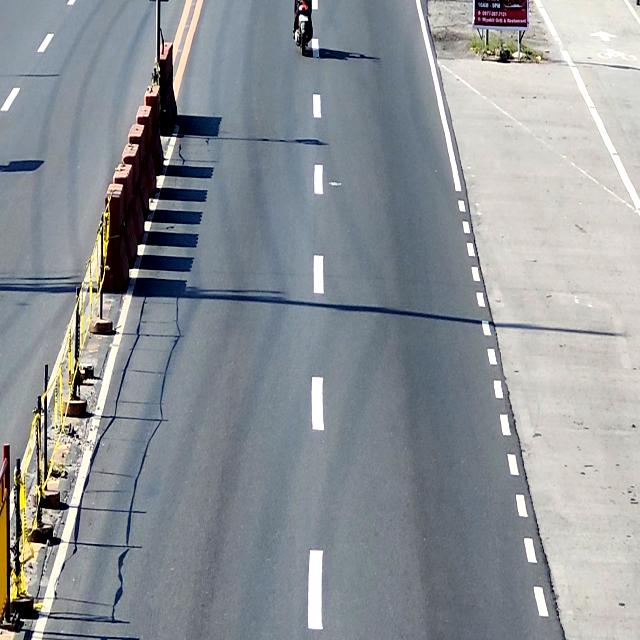License-Plate: (298, 14, 308, 22)
Motorcycle: (293, 0, 312, 56)
